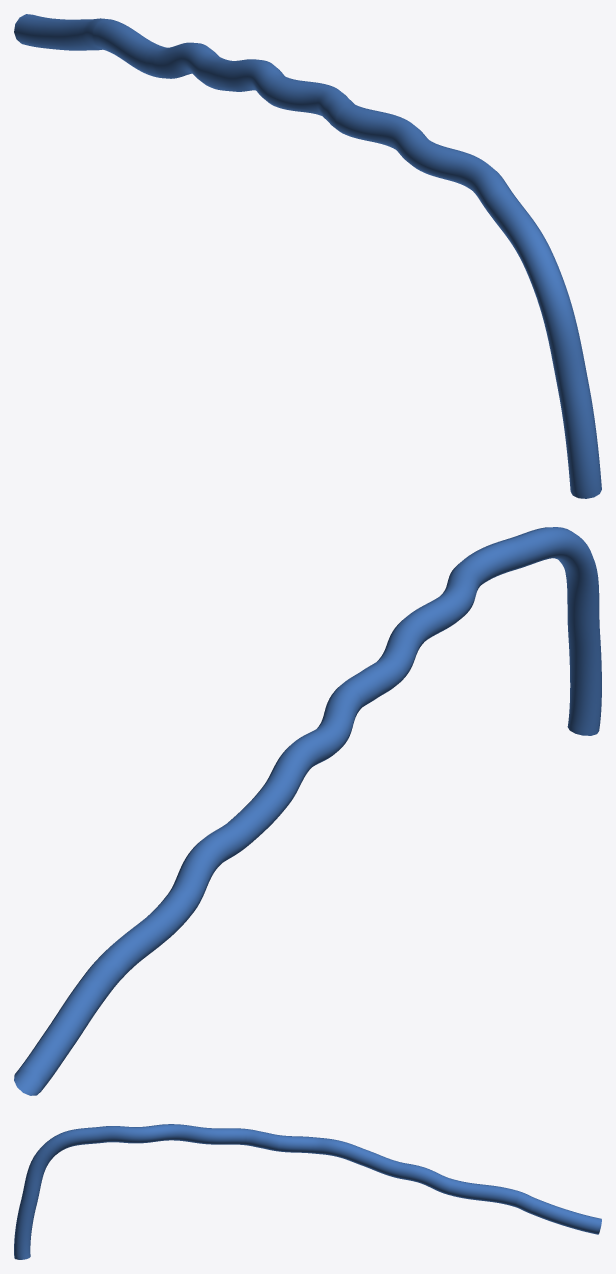
The picture shows the model from 3 angles, top to bottom: view 1: azimuth 30°, elevation 25°; view 2: azimuth 150°, elevation 25°; view 3: azimuth 270°, elevation 25°; orthographic projection. The views are drawn at different scales.
Visible parts, largest first — view 1: 奇静脉; view 2: 奇静脉; view 3: 奇静脉.
Boxes of the visible parts, x1,y1,x2,y2 form: 奇静脉: (14,14,601,498); 奇静脉: (14,527,601,1095); 奇静脉: (14,1124,601,1259).
Size of the model in its own units: 0.0179 by 0.0779 by 0.3169.
